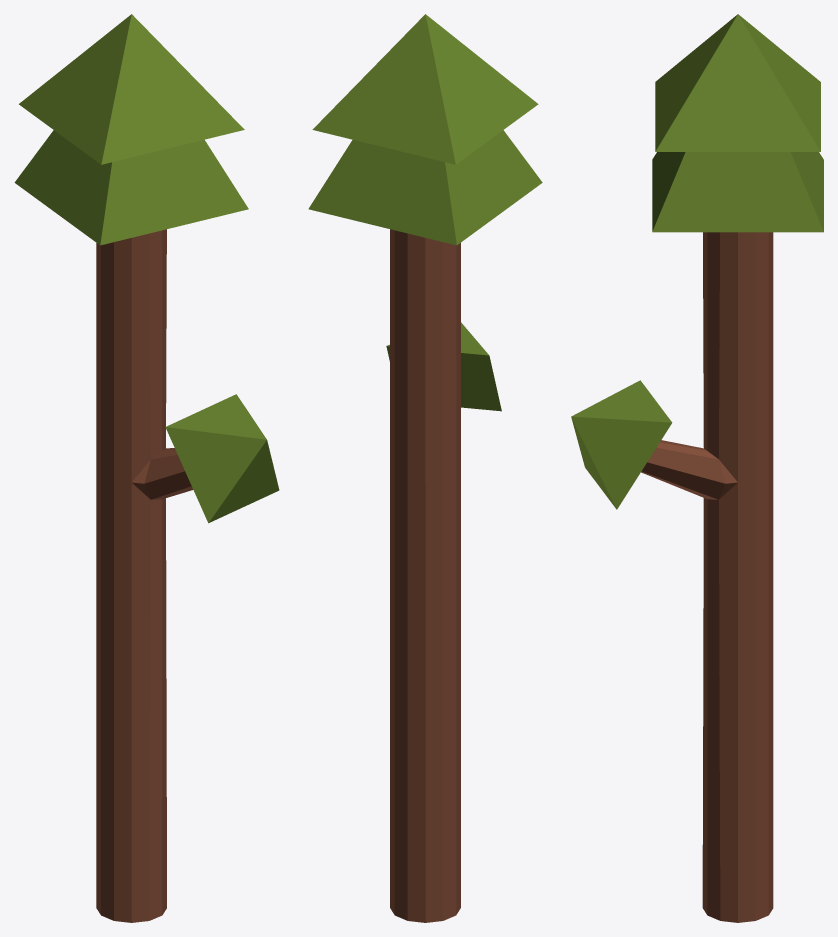
File: Tree_25_autumn_vc.fbx
3 views of the same model, side by side, from view 1: azimuth 30°, elevation 25°; view 2: azimuth 150°, elevation 25°; view 3: azimuth 270°, elevation 25° (orthographic).
Parts seen in each view (by area): view 1: Tree_25_autumn_vc; view 2: Tree_25_autumn_vc; view 3: Tree_25_autumn_vc.
Part boxes in pixels (box(x1,y1,x2,y2)): Tree_25_autumn_vc: box(14, 14, 279, 922); Tree_25_autumn_vc: box(308, 14, 542, 922); Tree_25_autumn_vc: box(571, 14, 823, 922).
Size of the model in its own units: 1.52 by 8.02 by 2.06.
